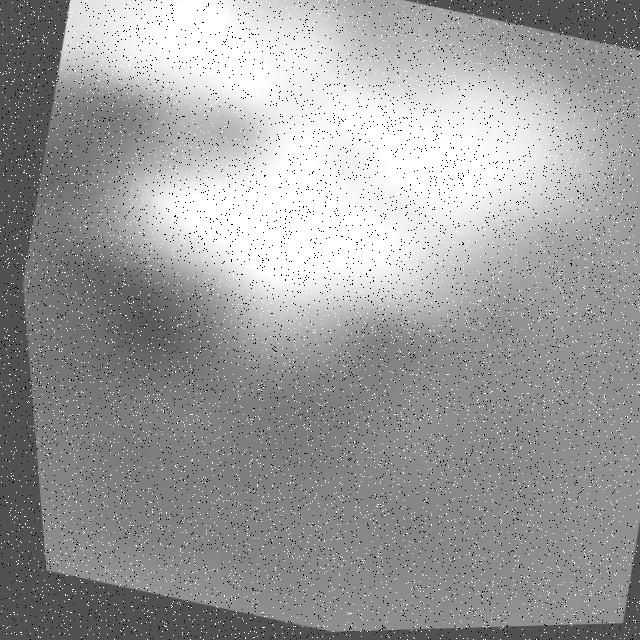person: (8, 1, 635, 383)
